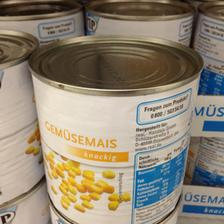Mais: (25, 32, 205, 224)
